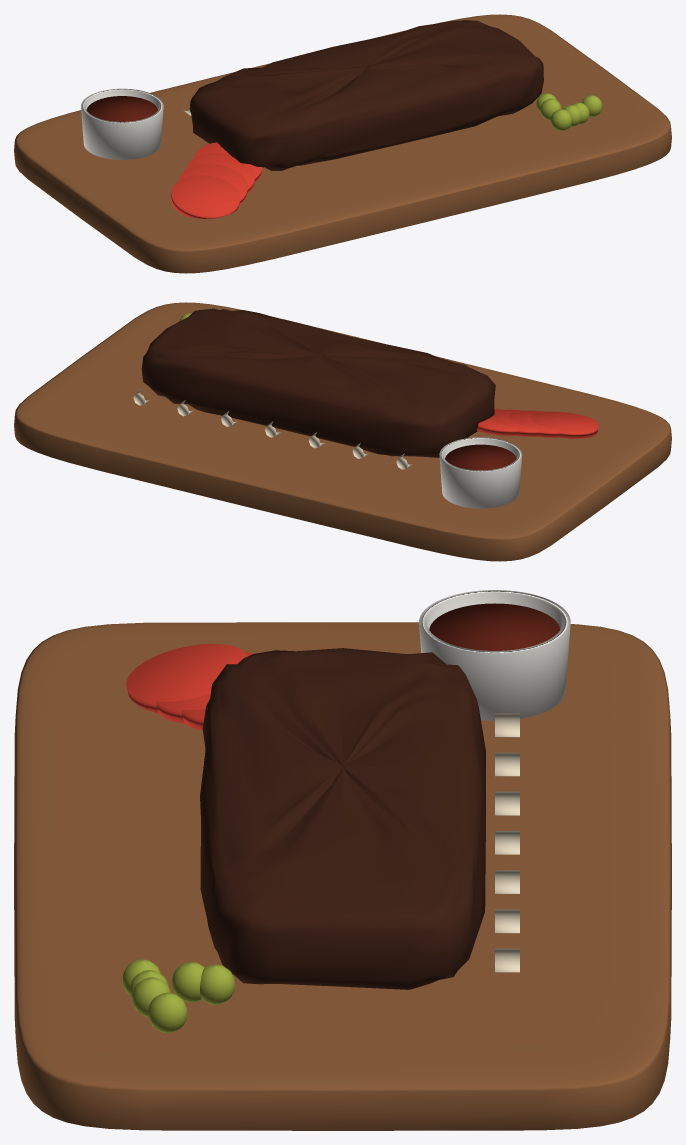
The model's file is costela-barbecue.glb.
3 renders of one model, top to bottom at view 1: azimuth 30°, elevation 25°; view 2: azimuth 150°, elevation 25°; view 3: azimuth 270°, elevation 25°, orthographic. The views are drawn at different scales.
Parts seen in each view (by area): view 1: costela-barbecue; view 2: costela-barbecue; view 3: costela-barbecue.
Boxes of the visible parts, <box> form: costela-barbecue: <box>14,14,671,273</box>; costela-barbecue: <box>14,302,671,561</box>; costela-barbecue: <box>14,590,671,1130</box>.
Bounding box in the file's own units: 0.44 × 0.0689 × 0.26.
